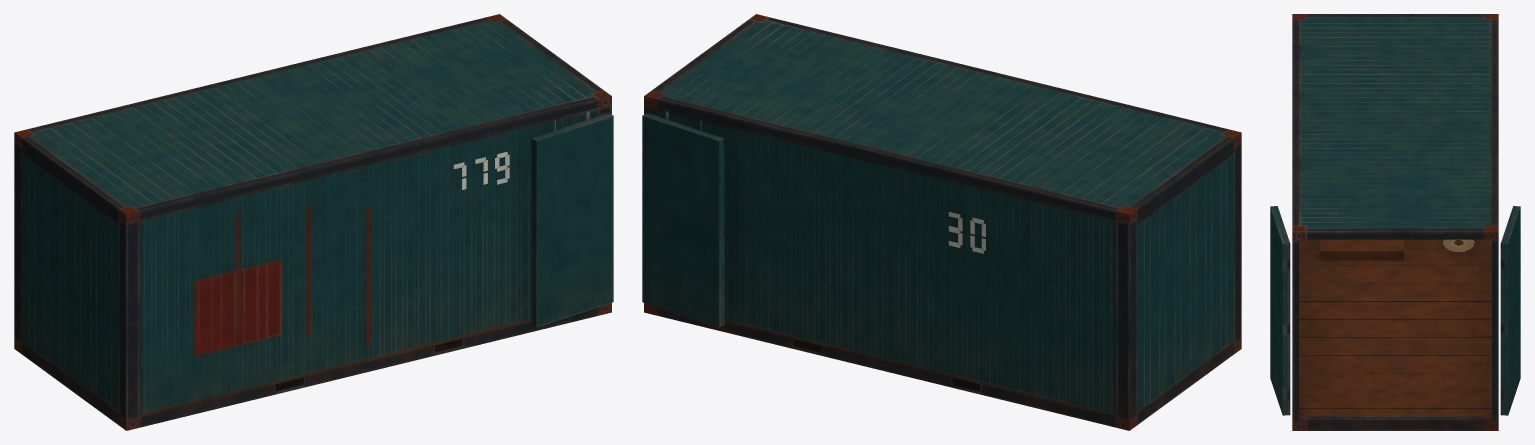
File: container_open.glb
3 renders of one model, left to right at view 1: azimuth 30°, elevation 25°; view 2: azimuth 150°, elevation 25°; view 3: azimuth 270°, elevation 25°, orthographic. The views are drawn at different scales.
Parts seen in each view (by area): view 1: container_open; view 2: container_open; view 3: container_open.
Boxes of the visible parts, x1,y1,x2,y2 form: container_open: (14,14,613,430); container_open: (642,14,1241,430); container_open: (1270,14,1520,430).
Bounding box in the file's own units: 6.1 × 2.6 × 2.97.
Materials: 1 (1 with a texture image).
